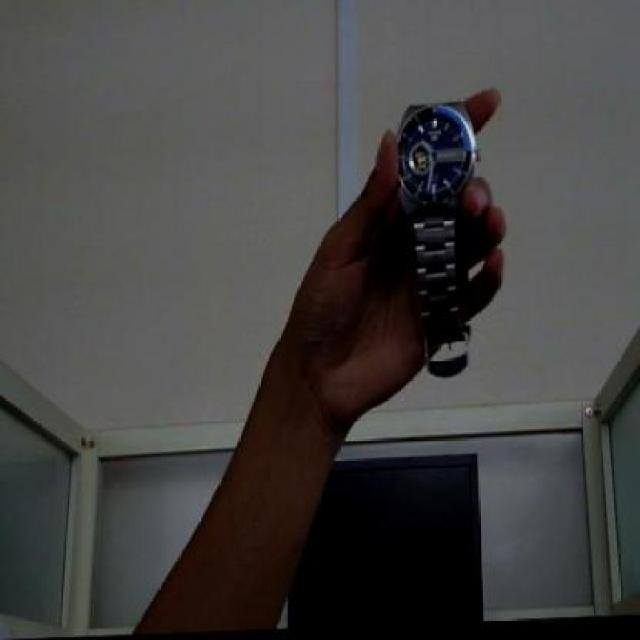Metal: (391, 89, 491, 381)
